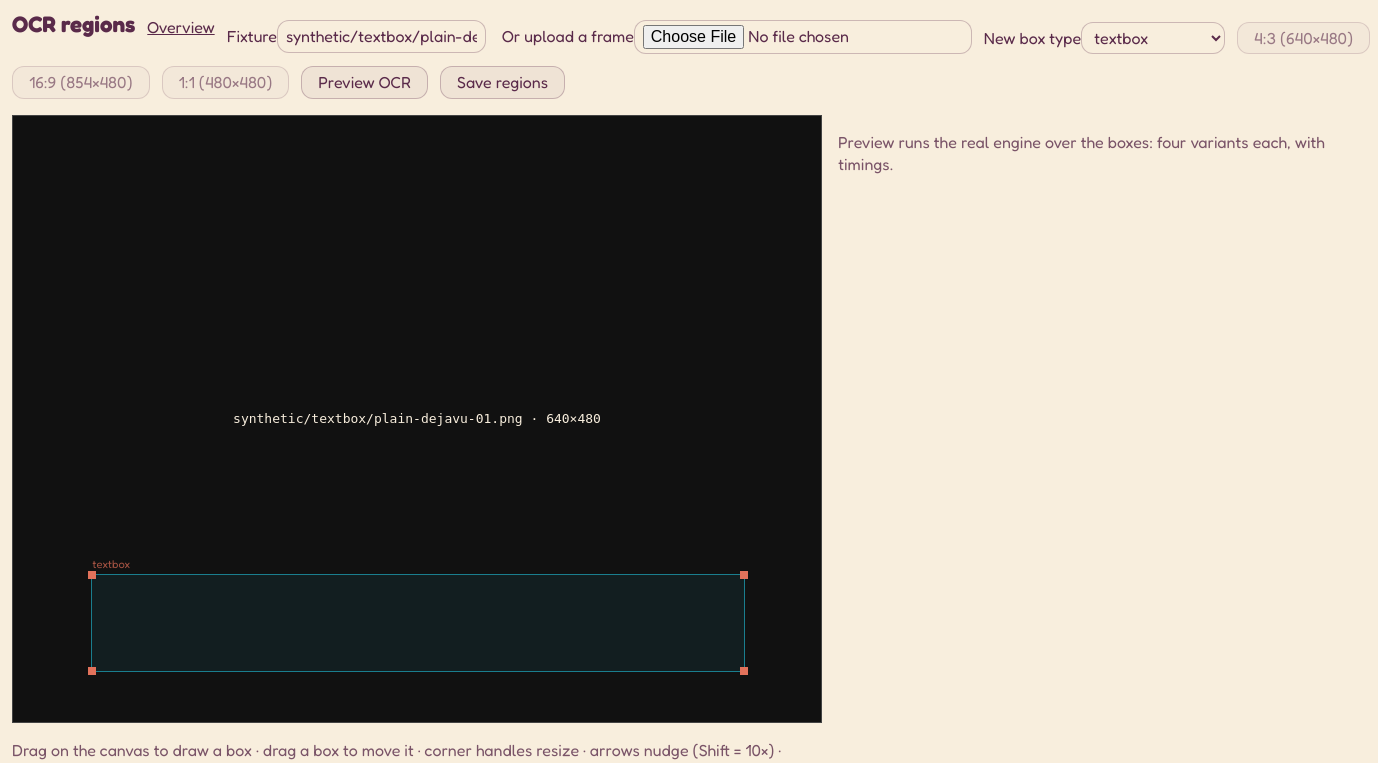
Test: a drawn box leaves the editor settled: the render count is bounded
Check: the element with test id "region-box-bottom" is shown, box x1=91 y1=574 x2=745 y2=672
Step 1. Press the mouse on the element with test id "regions-canvas" → (417, 419), box x1=12 y1=115 x2=822 y2=723
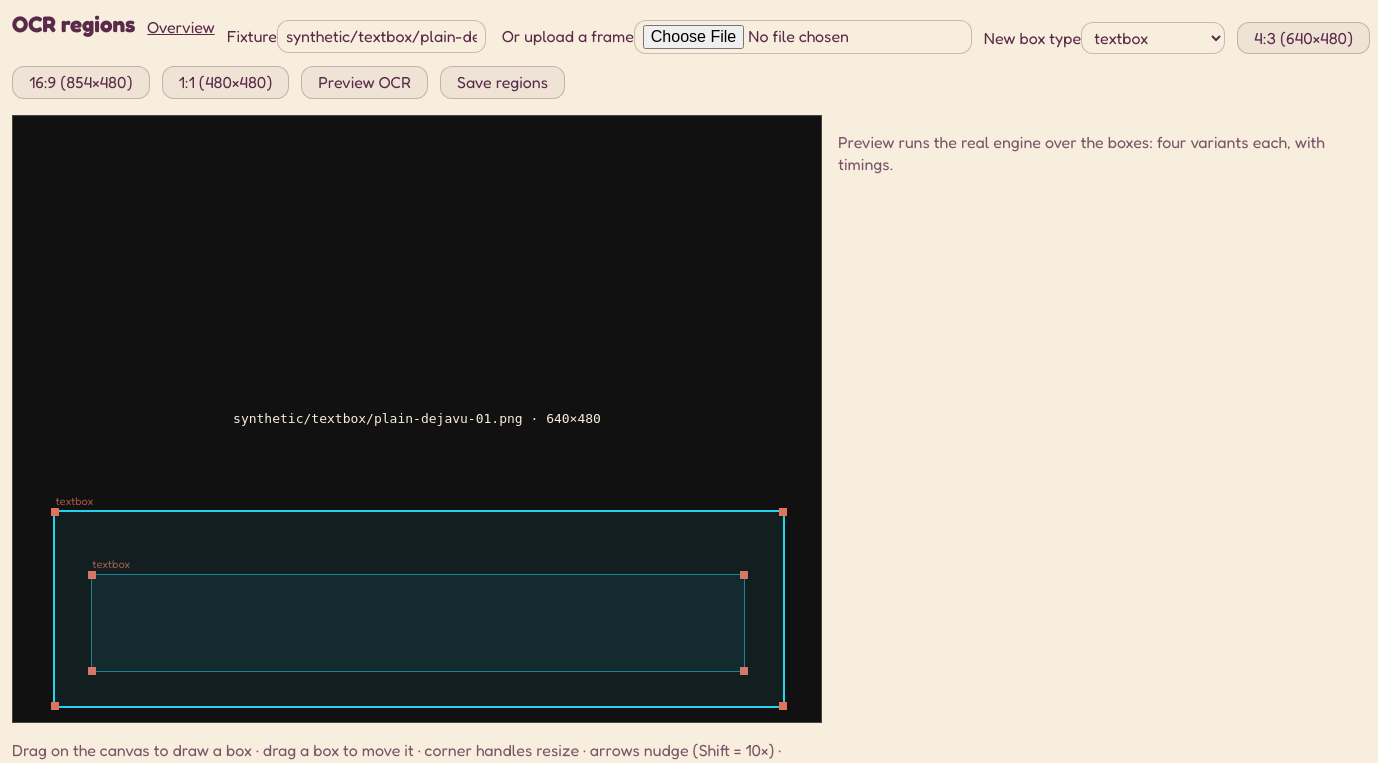
Check: the element with test id "region-box-1" is shown, box x1=53 y1=510 x2=785 y2=708
